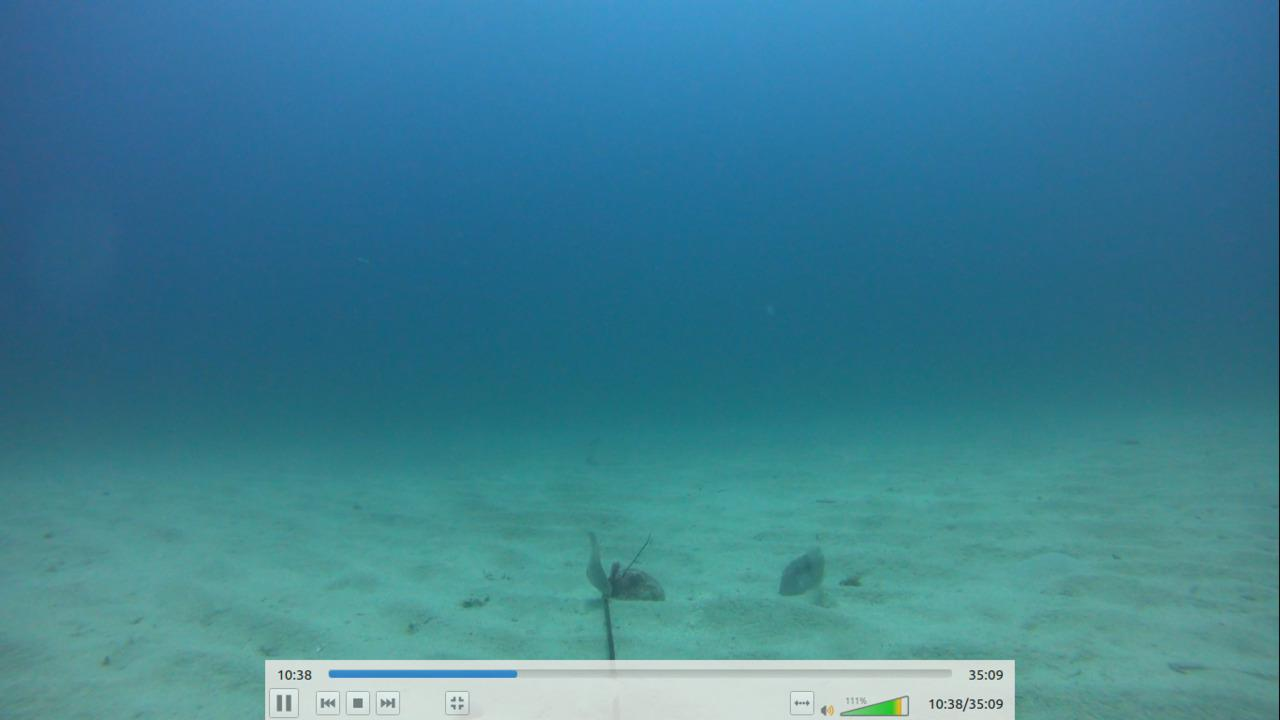raor: (571, 525, 626, 605), (776, 543, 823, 599)
